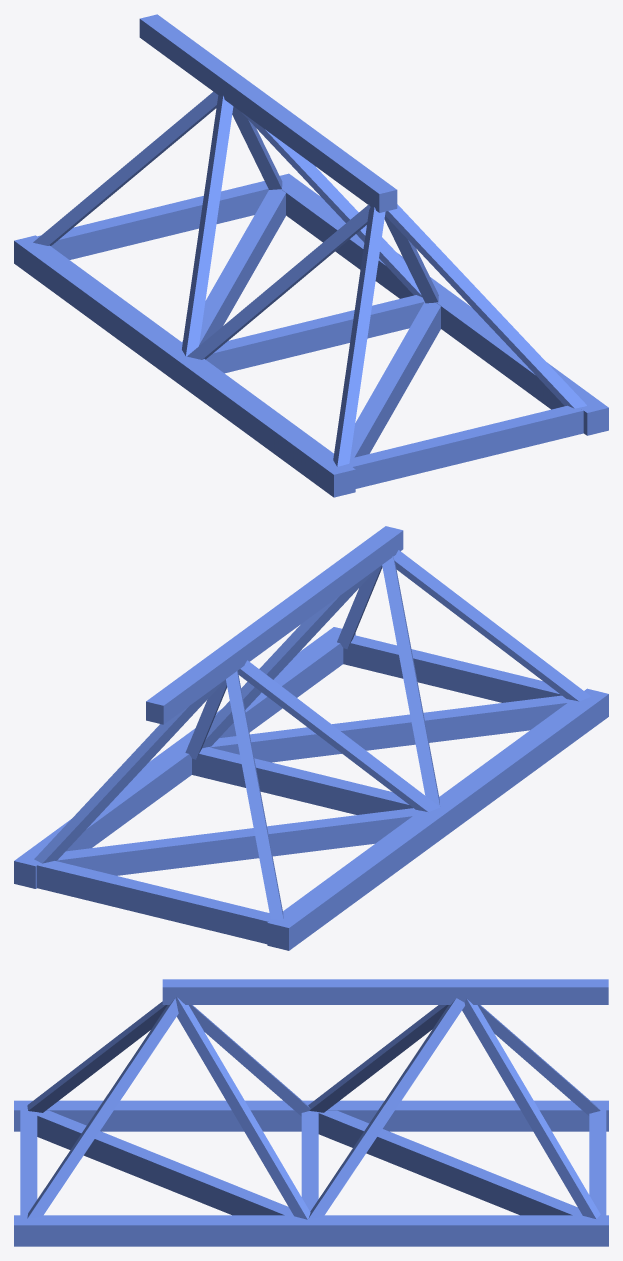
The model's file is towerHeadBoomFirst.glb.
The picture shows the model from 3 angles, top to bottom: view 1: azimuth 30°, elevation 25°; view 2: azimuth 150°, elevation 25°; view 3: azimuth 270°, elevation 25°; orthographic projection. The views are drawn at different scales.
Parts seen in each view (by area): view 1: towerHeadBoomFirst; view 2: towerHeadBoomFirst; view 3: towerHeadBoomFirst.
Part boxes in pixels (bbox=[...]): towerHeadBoomFirst: bbox=[14, 14, 608, 497]; towerHeadBoomFirst: bbox=[14, 526, 608, 950]; towerHeadBoomFirst: bbox=[14, 979, 608, 1246].
Bounding box in the file's own units: 63.05 × 47 × 127.
